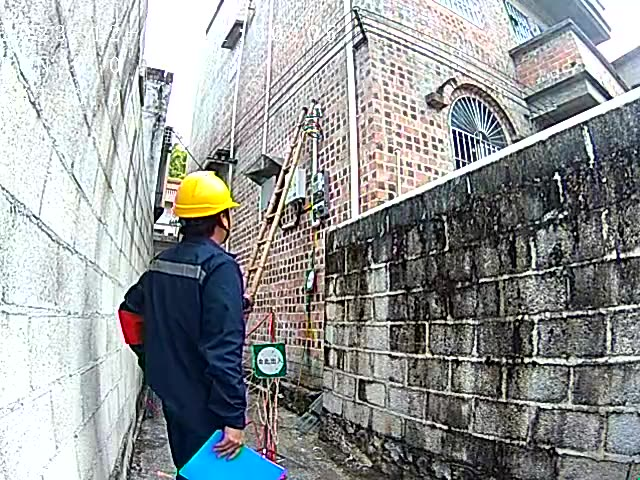halt: (176, 173, 240, 242)
inear: (216, 213, 235, 240)
